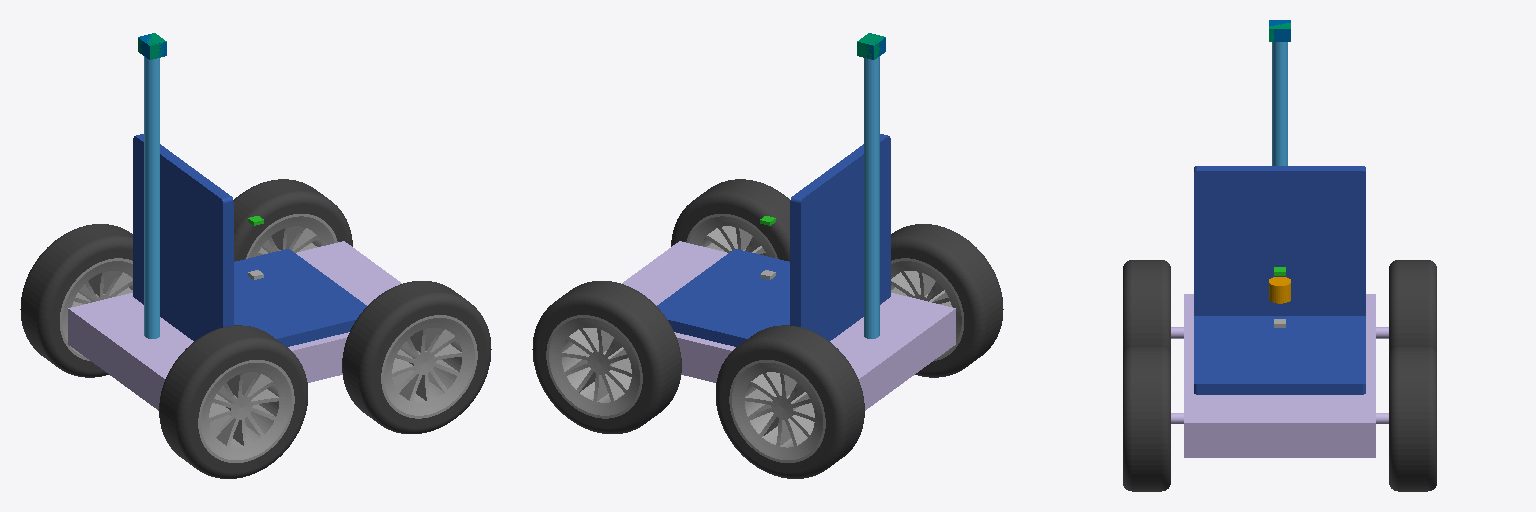
URDF robot description (wheelchair):
<?xml version="1.0" ?>
<!-- =================================================================================== -->
<!-- |    This document was autogenerated by xacro from robot.xacro                    | -->
<!-- |    EDITING THIS FILE BY HAND IS NOT RECOMMENDED                                 | -->
<!-- =================================================================================== -->
<robot name="wheelchair">
  <!--Tire-->
  <material name="tire_material">
    <color rgba="0.301961 0.301961 0.301961 1"/>
  </material>
  <material name="tire_2_material">
    <color rgba="0.301961 0.301961 0.301961 1"/>
  </material>
  <material name="tire_3_material">
    <color rgba="0.301961 0.301961 0.301961 1"/>
  </material>
  <material name="tire_4_material">
    <color rgba="0.301961 0.301961 0.301961 1"/>
  </material>
  <!--Rim-->
  <material name="rim_material">
    <color rgba="0.647059 0.647059 0.647059 1"/>
  </material>
  <material name="rim_2_material">
    <color rgba="0.647059 0.647059 0.647059 1"/>
  </material>
  <material name="rim_3_material">
    <color rgba="0.647059 0.647059 0.647059 1"/>
  </material>
  <material name="rim_4_material">
    <color rgba="0.647059 0.647059 0.647059 1"/>
  </material>
  <!-- Wheel (link + joint)-->
  <!-- =========================
       Footprint -> base_link
  ========================== -->
  <link name="base_footprint"/>
  <joint name="base_footprint_joint" type="fixed">
    <parent link="base_footprint"/>
    <child link="base_link"/>
    <!-- 필요 시 높이 보정: z -->
    <origin rpy="0 0 0" xyz="0 0 0"/>
  </joint>
  <!-- =========================
       base_link
  ========================== -->
  <link name="base_link">
    <inertial>
      <origin rpy="0 0 0" xyz="-4.76552e-18 2.86142e-17 -0.05"/>
      <mass value="109.261"/>
      <inertia ixx="2.39367" ixy="-7.30346e-16" ixz="0" iyy="5.92579" iyz="0" izz="8.13808"/>
    </inertial>
    <visual>
      <origin rpy="0 0 0" xyz="0 0 -0.1"/>
      <geometry>
        <mesh filename="package://wheelchair_description/wheelchair/assets/frame.stl"/>
      </geometry>
      <material name="base_link_material">
        <color rgba="0.8 0.74902 0.913725 1"/>
      </material>
    </visual>
    <collision>
      <origin rpy="0 0 0" xyz="0 0 -0.1"/>
      <geometry>
        <mesh filename="package://wheelchair_description/wheelchair/assets/frame.stl"/>
      </geometry>
    </collision>
  </link>
  <!-- =========================
       Chair
  ========================== -->
  <link name="chair">
    <inertial>
      <origin rpy="0 0 0" xyz="-2.47568e-17 -0.101356 -0.123597"/>
      <mass value="13.9735"/>
      <inertia ixx="0.552457" ixy="1.94092e-16" ixz="0" iyy="0.511931" iyz="-0.164794" izz="0.511931"/>
    </inertial>
    <visual>
      <origin rpy="3.14159 0 0" xyz="-5.74184e-17 4.72259e-05 0"/>
      <geometry>
        <mesh filename="package://wheelchair_description/wheelchair/assets/chair.stl"/>
      </geometry>
      <material name="chair_material">
        <color rgba="0.231373 0.380392 0.705882 1"/>
      </material>
    </visual>
    <collision>
      <origin rpy="3.14159 0 0" xyz="-5.74184e-17 4.72259e-05 0"/>
      <geometry>
        <mesh filename="package://wheelchair_description/wheelchair/assets/chair.stl"/>
      </geometry>
    </collision>
  </link>
  <joint name="chair_joint" type="fixed">
    <origin rpy="3.14159 0 1.5708" xyz="-1.42302e-19 5.74184e-17 0"/>
    <parent link="base_link"/>
    <child link="chair"/>
    <axis xyz="0 0 1"/>
    <limit effort="10" velocity="10"/>
  </joint>
  <link name="front_right_wheel">
    <inertial>
      <origin rpy="0 0 0" xyz="-2.22037e-09 1.06602e-06 -0.037537"/>
      <mass value="13.3494"/>
      <inertia ixx="0.111824" ixy="-2.80625e-07" ixz="1.36714e-10" iyy="0.111824" iyz="1.28637e-07" izz="0.19275"/>
    </inertial>
    <!-- Tire-->
    <visual>
      <origin rpy="1.5708 1.38778e-16 0" xyz="0 0 -0.037537"/>
      <geometry>
        <mesh filename="package://wheelchair_description/wheelchair/assets/tire.stl"/>
      </geometry>
      <material name="tire_material"/>
    </visual>
    <collision>
      <origin rpy="1.5708 1.38778e-16 0" xyz="0 0 -0.037537"/>
      <geometry>
        <mesh filename="package://wheelchair_description/wheelchair/assets/tire.stl"/>
      </geometry>
    </collision>
    <!-- Rim-->
    <visual>
      <origin rpy="1.5708 -3.50219e-16 0" xyz="0 0 -0.037537"/>
      <geometry>
        <mesh filename="package://wheelchair_description/wheelchair/assets/rim.stl"/>
      </geometry>
      <material name="rim_material"/>
    </visual>
    <collision>
      <origin rpy="1.5708 -3.50219e-16 0" xyz="0 0 -0.037537"/>
      <geometry>
        <mesh filename="package://wheelchair_description/wheelchair/assets/rim.stl"/>
      </geometry>
    </collision>
  </link>
  <!-- Joint-->
  <joint name="front_rw" type="continuous">
    <parent link="base_link"/>
    <child link="front_right_wheel"/>
    <origin rpy="-1.5708 0 0" xyz="0.265 -0.31 -0.05"/>
    <axis xyz="0 0 1"/>
  </joint>
  <link name="front_left_wheel">
    <inertial>
      <origin rpy="0 0 0" xyz="-2.22037e-09 1.06602e-06 0.0375369"/>
      <mass value="13.3494"/>
      <inertia ixx="0.111824" ixy="-2.80625e-07" ixz="1.36714e-10" iyy="0.111824" iyz="1.28637e-07" izz="0.19275"/>
    </inertial>
    <!-- Tire-->
    <visual>
      <origin rpy="1.5708 -1.38778e-16 0" xyz="0 0 0.037537"/>
      <geometry>
        <mesh filename="package://wheelchair_description/wheelchair/assets/tire.stl"/>
      </geometry>
      <material name="tire_2_material"/>
    </visual>
    <collision>
      <origin rpy="1.5708 -1.38778e-16 0" xyz="0 0 0.037537"/>
      <geometry>
        <mesh filename="package://wheelchair_description/wheelchair/assets/tire.stl"/>
      </geometry>
    </collision>
    <!-- Rim-->
    <visual>
      <origin rpy="1.5708 -3.50219e-16 0" xyz="0 0 0.037537"/>
      <geometry>
        <mesh filename="package://wheelchair_description/wheelchair/assets/rim.stl"/>
      </geometry>
      <material name="rim_2_material"/>
    </visual>
    <collision>
      <origin rpy="1.5708 -3.50219e-16 0" xyz="0 0 0.037537"/>
      <geometry>
        <mesh filename="package://wheelchair_description/wheelchair/assets/rim.stl"/>
      </geometry>
    </collision>
  </link>
  <!-- Joint-->
  <joint name="front_lw" type="continuous">
    <parent link="base_link"/>
    <child link="front_left_wheel"/>
    <origin rpy="-1.5708 0 0" xyz="0.265 0.31 -0.05"/>
    <axis xyz="0 0 1"/>
  </joint>
  <link name="rear_right_wheel">
    <inertial>
      <origin rpy="0 0 0" xyz="-2.22037e-09 1.06602e-06 -0.037537"/>
      <mass value="13.3494"/>
      <inertia ixx="0.111824" ixy="-2.80625e-07" ixz="1.36714e-10" iyy="0.111824" iyz="1.28637e-07" izz="0.19275"/>
    </inertial>
    <!-- Tire-->
    <visual>
      <origin rpy="1.5708 1.38778e-16 0" xyz="0 2.77556e-17 -0.037537"/>
      <geometry>
        <mesh filename="package://wheelchair_description/wheelchair/assets/tire.stl"/>
      </geometry>
      <material name="tire_4_material"/>
    </visual>
    <collision>
      <origin rpy="1.5708 1.38778e-16 0" xyz="0 2.77556e-17 -0.037537"/>
      <geometry>
        <mesh filename="package://wheelchair_description/wheelchair/assets/tire.stl"/>
      </geometry>
    </collision>
    <!-- Rim-->
    <visual>
      <origin rpy="1.5708 -3.50219e-16 0" xyz="0 2.77556e-17 -0.037537"/>
      <geometry>
        <mesh filename="package://wheelchair_description/wheelchair/assets/rim.stl"/>
      </geometry>
      <material name="rim_4_material"/>
    </visual>
    <collision>
      <origin rpy="1.5708 -3.50219e-16 0" xyz="0 2.77556e-17 -0.037537"/>
      <geometry>
        <mesh filename="package://wheelchair_description/wheelchair/assets/rim.stl"/>
      </geometry>
    </collision>
  </link>
  <!-- Joint-->
  <joint name="back_rw" type="continuous">
    <parent link="base_link"/>
    <child link="rear_right_wheel"/>
    <origin rpy="-1.5708 0 0" xyz="-0.265 -0.31 -0.05"/>
    <axis xyz="0 0 1"/>
  </joint>
  <link name="rear_left_wheel">
    <inertial>
      <origin rpy="0 0 0" xyz="-2.22037e-09 1.06602e-06 0.0375369"/>
      <mass value="13.3494"/>
      <inertia ixx="0.111824" ixy="-2.80625e-07" ixz="1.36714e-10" iyy="0.111824" iyz="1.28637e-07" izz="0.19275"/>
    </inertial>
    <!-- Tire-->
    <visual>
      <origin rpy="1.5708 -1.38778e-16 0" xyz="0 0 0.037537"/>
      <geometry>
        <mesh filename="package://wheelchair_description/wheelchair/assets/tire.stl"/>
      </geometry>
      <material name="tire_3_material"/>
    </visual>
    <collision>
      <origin rpy="1.5708 -1.38778e-16 0" xyz="0 0 0.037537"/>
      <geometry>
        <mesh filename="package://wheelchair_description/wheelchair/assets/tire.stl"/>
      </geometry>
    </collision>
    <!-- Rim-->
    <visual>
      <origin rpy="1.5708 -3.50219e-16 0" xyz="0 0 0.037537"/>
      <geometry>
        <mesh filename="package://wheelchair_description/wheelchair/assets/rim.stl"/>
      </geometry>
      <material name="rim_3_material"/>
    </visual>
    <collision>
      <origin rpy="1.5708 -3.50219e-16 0" xyz="0 0 0.037537"/>
      <geometry>
        <mesh filename="package://wheelchair_description/wheelchair/assets/rim.stl"/>
      </geometry>
    </collision>
  </link>
  <!-- Joint-->
  <joint name="back_lw" type="continuous">
    <parent link="base_link"/>
    <child link="rear_left_wheel"/>
    <origin rpy="-1.5708 0 0" xyz="-0.265 0.31 -0.05"/>
    <axis xyz="0 0 1"/>
  </joint>




<!-- GPS Visualization-->
<link name="gps_link">
  <inertial>
    <origin rpy="0 0 0" xyz="0 0 0"/>
    <mass value="0.05"/>
    <inertia ixx="1e-5" ixy="0" ixz="0" iyy="1e-5" iyz="0" izz="1e-5"/>
  </inertial>
  <visual>
    <geometry><box size="0.03 0.03 0.01"/></geometry>
  </visual>
</link>
<joint name="gps_joint" type="fixed">
  <parent link="base_link"/>
  <child link="gps_link"/>
  <origin rpy="0 0 0" xyz="0.0 0.0 0.1"/>
</joint>



<!-- Ignition Gazeobo NavSat (GPS Sensor)-->
<gazebo reference="gps_link">
  <sensor name="gps" type="navsat">
    <always_on>true</always_on>
    <update_rate>5</update_rate>
    <visualize>false</visualize>
    <topic>/gps/fix</topic>
    <gz_frame_id>gps_link</gz_frame_id>
  </sensor>
</gazebo>





  <!-- Lidar Visualization-->
  <link name="lidar_link">
    <inertial>
      <origin rpy="0 0 0" xyz="0 0 0"/>
      <mass value="0.1"/>
      <inertia ixx="1e-4" ixy="0" ixz="0" iyy="1e-4" iyz="0" izz="1e-4"/>
    </inertial>
    <visual>
      <geometry>
        <cylinder length="0.05" radius="0.03"/>
      </geometry>
    </visual>
    <collision>
      <geometry>
        <cylinder length="0.05" radius="0.03"/>
      </geometry>
    </collision>
  </link>
  <joint name="lidar_joint" type="fixed">
    <parent link="base_link"/>
    <child link="lidar_link"/>
    <origin rpy="0 0 0" xyz="-0.1 0 0.15"/>
  </joint>






  <!-- Ignition Gazebo 2D LiDAR -->
  <gazebo reference="lidar_link">
    <sensor name="lidar" type="gpu_lidar">
      <always_on>1</always_on>
      <update_rate>10</update_rate>
      <topic>/lidar/scan</topic>
      <frame_id>lidar_link</frame_id>
      <visualize>true</visualize>
      <ray>
        <scan>
          <horizontal>
            <samples>720</samples>
            <resolution>1</resolution>
            <min_angle>-3.14159</min_angle>
            <max_angle>3.14159</max_angle>
          </horizontal>
          <vertical>
            <samples>1</samples>
            <resolution>1</resolution>
            <min_angle>0</min_angle>
            <max_angle>0</max_angle>
          </vertical>
        </scan>
        <range>
          <min>0.35</min>
          <max>15.0</max>
          <resolution>0.01</resolution>
        </range>
      </ray>
      <gz_frame_id>lidar_link</gz_frame_id>
    </sensor>
  </gazebo>




  <!-- Ignition Gazebo 3D LiDAR-->
  <!-- <gazebo reference="lidar_link">
    <sensor name="lidar" type="gpu_lidar">
      <always_on>1</always_on>
      <update_rate>10</update_rate>
      <topic>/lidar/scan</topic>
      <frame_id>lidar_link</frame_id>
      <visualize>true</visualize>
      <ray>
        <scan>
          <horizontal>
            <samples>720</samples>
            <resolution>1</resolution>
            <min_angle>-3.14159</min_angle>
            <max_angle>3.14159</max_angle>
          </horizontal>
          <vertical>
            <samples>16</samples>
            <resolution>1</resolution>
            <min_angle>-0.35</min_angle>
            <max_angle>0.35</max_angle>
          </vertical>
        </scan>
        <range>
          <min>0.2</min>
          <max>30.0</max>
          <resolution>0.01</resolution>
        </range>
        <noise>
          <type>gaussian</type>
          <stddev>0.02</stddev>
        </noise>
      </ray>
      <gz_frame_id>lidar_link</gz_frame_id>
    </sensor>
  </gazebo> -->






<!-- Camera Visualization-->
  <link name="camera_stand_link">
    <inertial>
      <origin rpy="0 0 0" xyz="0 0 0.4"/>
      <mass value="0.5"/>
      <inertia ixx="1e-3" ixy="0" ixz="0" iyy="1e-3" iyz="0" izz="1e-3"/>
    </inertial>
    <visual>
      <origin rpy="0 0 0" xyz="0 0 0.4"/>
      <geometry>
        <cylinder length="0.8" radius="0.02"/>
      </geometry>
    </visual>
    <collision>
      <origin rpy="0 0 0" xyz="0 0 0.4"/>
      <geometry>
        <cylinder length="0.8" radius="0.02"/>
      </geometry>
    </collision>
  </link>
  <joint name="camera_stand_link_joint" type="fixed">
    <parent link="base_link"/>
    <child link="camera_stand_link"/>
    <origin rpy="0 0 0" xyz="-0.3 0 0.002"/>
  </joint>
  <link name="front_rgbd_link">
    <inertial>
      <origin rpy="0 0 0" xyz="0 0 0"/>
      <mass value="0.2"/>
      <inertia ixx="5e-4" ixy="0" ixz="0" iyy="5e-4" iyz="0" izz="5e-4"/>
    </inertial>
    <visual>
      <origin rpy="0 0 0" xyz="0 0 0"/>
      <geometry>
        <box size="0.05 0.06 0.04"/>
      </geometry>
    </visual>
    <collision>
      <origin rpy="0 0 0" xyz="0 0 0"/>
      <geometry>
        <box size="0.05 0.06 0.04"/>
      </geometry>
    </collision>
  </link>
  <joint name="front_rgbd_joint" type="fixed">
    <parent link="camera_stand_link"/>
    <child link="front_rgbd_link"/>
    <origin rpy="0 0 0" xyz="0 0 0.8"/>
  </joint>



  <!-- Ignition Gazebo RGB Camera + Depth Camera-->
  <gazebo reference="front_rgbd_link">
    <sensor name="front_rgbd_rgb" type="camera">
      <always_on>1</always_on>
      <visualize>true</visualize>
      <update_rate>30</update_rate>
      <topic>front_rgbd/rgb/image</topic>
      <ignition_frame_id>front_rgbd_optical_frame</ignition_frame_id>
      <camera>
        <horizontal_fov>1.0471976</horizontal_fov>
        <image>
          <width>640</width>
          <height>480</height>
          <format>R8G8B8</format>
        </image>
        <clip>
          <near>0.05</near>
          <far>15.0</far>
        </clip>
      </camera>
    </sensor>
  </gazebo>
  <!-- Depth Camera-->
  <gazebo reference="front_rgbd_link">
    <sensor name="front_rgbd_depth" type="depth_camera">
      <always_on>1</always_on>
      <visualize>true</visualize>
      <update_rate>30</update_rate>
      <topic>front_rgbd/depth/image</topic>
      <ignition_frame_id>front_rgbd_optical_frame</ignition_frame_id>
      <camera>
        <horizontal_fov>1.0471976</horizontal_fov>
        <image>
          <width>640</width>
          <height>480</height>
          <format>R_FLOAT32</format>
        </image>
        <clip>
          <near>0.05</near>
          <far>15.0</far>
        </clip>
      </camera>
      <depth_camera>
        <point_cloud>true</point_cloud>
        <min_range>0.05</min_range>
        <max_range>15.0</max_range>
        <resolution>0.001</resolution>
      </depth_camera>
    </sensor>
  </gazebo>
  <link name="front_rgbd_optical_frame"/>
  <joint name="front_rgbd_optical_joint" type="fixed">
    <parent link="front_rgbd_link"/>
    <child link="front_rgbd_optical_frame"/>
    <origin rpy="-1.5707963 0 -1.5707963" xyz="0 0 0"/>
  </joint>
  <link name="rear_rgbd_link">
    <inertial>
      <origin rpy="0 0 0" xyz="0 0 0"/>
      <mass value="0.2"/>
      <inertia ixx="5e-4" ixy="0" ixz="0" iyy="5e-4" iyz="0" izz="5e-4"/>
    </inertial>
    <visual>
      <origin rpy="0 0 0" xyz="0 0 0"/>
      <geometry>
        <box size="0.05 0.06 0.04"/>
      </geometry>
    </visual>
    <collision>
      <origin rpy="0 0 0" xyz="0 0 0"/>
      <geometry>
        <box size="0.05 0.06 0.04"/>
      </geometry>
    </collision>
  </link>
  <joint name="rear_rgbd_joint" type="fixed">
    <parent link="camera_stand_link"/>
    <child link="rear_rgbd_link"/>
    <origin rpy="0 0 3.14159" xyz="0 0 0.8"/>
  </joint>
  <!-- Gazebo RGB Camera + Depth Camera-->
  <gazebo reference="rear_rgbd_link">
    <sensor name="rear_rgbd_rgb" type="camera">
      <always_on>1</always_on>
      <visualize>true</visualize>
      <update_rate>30</update_rate>
      <topic>rear_rgbd/rgb/image</topic>
      <ignition_frame_id>rear_rgbd_optical_frame</ignition_frame_id>
      <camera>
        <horizontal_fov>1.0471976</horizontal_fov>
        <image>
          <width>640</width>
          <height>480</height>
          <format>R8G8B8</format>
        </image>
        <clip>
          <near>0.05</near>
          <far>15.0</far>
        </clip>
      </camera>
    </sensor>
  </gazebo>
  <!-- Depth Camera-->
  <gazebo reference="rear_rgbd_link">
    <sensor name="rear_rgbd_depth" type="depth_camera">
      <always_on>1</always_on>
      <visualize>true</visualize>
      <update_rate>30</update_rate>
      <topic>rear_rgbd/depth/image</topic>
      <ignition_frame_id>rear_rgbd_optical_frame</ignition_frame_id>
      <camera>
        <horizontal_fov>1.0471976</horizontal_fov>
        <image>
          <width>640</width>
          <height>480</height>
          <format>R_FLOAT32</format>
        </image>
        <clip>
          <near>0.05</near>
          <far>15.0</far>
        </clip>
      </camera>
      <depth_camera>
        <point_cloud>true</point_cloud>
        <min_range>0.05</min_range>
        <max_range>15.0</max_range>
        <resolution>0.001</resolution>
      </depth_camera>
    </sensor>
  </gazebo>
  <link name="rear_rgbd_optical_frame"/>
  <joint name="rear_rgbd_optical_joint" type="fixed">
    <parent link="rear_rgbd_link"/>
    <child link="rear_rgbd_optical_frame"/>
    <origin rpy="-1.5707963 0 -1.5707963" xyz="0 0 0"/>
  </joint>



  <!-- =========================
       IMU Visualization
  ========================== -->
  <link name="imu_link">
    <inertial>
      <origin rpy="0 0 0" xyz="0 0 0"/>
      <mass value="0.05"/>
      <inertia ixx="1e-5" ixy="0" ixz="0" iyy="1e-5" iyz="0" izz="1e-5"/>
    </inertial>
    <visual>
      <origin rpy="0 0 0" xyz="0 0 0"/>
      <geometry>
        <box size="0.03 0.03 0.01"/>
      </geometry>
      <material name="imu_material">
        <color rgba="0.2 0.8 0.2 1.0"/>
      </material>
    </visual>
  </link>
  <joint name="imu_joint" type="fixed">
    <parent link="base_link"/>
    <child link="imu_link"/>
    <!-- Actual position -->
    <origin rpy="0 0 0" xyz="0.0 0.0 0.25"/>
  </joint>
  <!-- 3) Gazebo IMU sensor -->
  <gazebo reference="imu_link">
    <sensor name="imu_sensor" type="imu">
      <always_on>true</always_on>
      <update_rate>100</update_rate>
      <visualize>false</visualize>
      <gz_frame_id>imu_link</gz_frame_id>
      <topic>imu</topic>
      <pose> 0 0 0 0 0 0</pose>
      <imu>
        <angular_velocity>true</angular_velocity>
        <linear_acceleration>true</linear_acceleration>
      </imu>
    </sensor>
  </gazebo>




  <!-- =========================
       Gazebo DiffDrive (Ignition)
  ========================== -->
  <gazebo>
    <plugin filename="gz-sim-joint-state-publisher-system" name="gz::sim::systems::JointStatePublisher"/>
    <plugin filename="libignition-gazebo6-diff-drive-system.so" name="ignition::gazebo::systems::DiffDrive">

      <left_joint>front_lw</left_joint>
      <left_joint>back_lw</left_joint>
      <right_joint>front_rw</right_joint>
      <right_joint>back_rw</right_joint>

      <wheel_separation>0.62</wheel_separation>
      <wheel_radius>0.15</wheel_radius>

      <topic>/cmd_vel</topic>

      <odom_topic>/odom</odom_topic>

      <odom_publish_frequency>50</odom_publish_frequency>

      <frame_id>odom</frame_id>
      <child_frame_id>base_link</child_frame_id>
    </plugin>
  </gazebo>
</robot>

--- Render facts (derived) ---
The picture shows the robot from 3 angles, left to right: view 1: azimuth 30°, elevation 25°; view 2: azimuth 150°, elevation 25°; view 3: azimuth 270°, elevation 25°; orthographic projection.
Model wheelchair with 15 links and 14 joints (4 continuous, 10 fixed), rooted at base_footprint, posed all joints at 0.
Links seen in each view (by area): view 1: chair, rear_right_wheel, front_right_wheel, base_link, rear_left_wheel, front_left_wheel, camera_stand_link; view 2: chair, rear_left_wheel, front_left_wheel, base_link, rear_right_wheel, front_right_wheel, camera_stand_link; view 3: chair, base_link, front_right_wheel, front_left_wheel, rear_right_wheel, rear_left_wheel, camera_stand_link, lidar_link.
Link boxes in pixels (box(x1,y1,x2,y2)): chair: box(133, 134, 366, 346); rear_right_wheel: box(159, 325, 307, 478); front_right_wheel: box(342, 281, 491, 433); base_link: box(68, 241, 401, 410); rear_left_wheel: box(20, 224, 132, 377); front_left_wheel: box(233, 179, 352, 261); camera_stand_link: box(144, 56, 159, 338); chair: box(657, 134, 890, 346); rear_left_wheel: box(716, 325, 864, 478); front_left_wheel: box(532, 281, 681, 433); base_link: box(622, 241, 955, 410); rear_right_wheel: box(891, 224, 1003, 377); front_right_wheel: box(671, 179, 790, 261); camera_stand_link: box(864, 56, 879, 338); chair: box(1194, 166, 1365, 394); base_link: box(1171, 294, 1388, 457); front_right_wheel: box(1123, 346, 1170, 491); front_left_wheel: box(1389, 346, 1436, 491); rear_right_wheel: box(1123, 260, 1170, 351); rear_left_wheel: box(1389, 260, 1436, 351); camera_stand_link: box(1272, 42, 1287, 165); lidar_link: box(1269, 277, 1290, 303).
Bounding box of the posed robot: 0.911 × 0.8221 × 1.06 m (x, y, z).
Meshes: 4 distinct files referenced, 10 mesh visuals loaded (4 binary STL).
